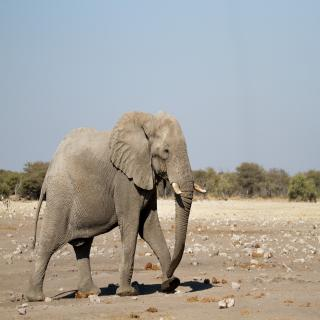Elephant: (29, 108, 207, 303)
